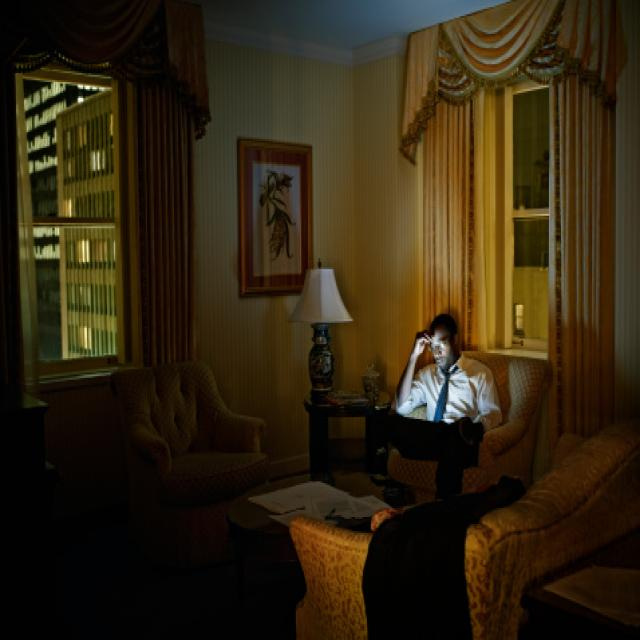People: (387, 294, 492, 513)
Table: (225, 464, 399, 624), (284, 378, 398, 486)
chair: (288, 406, 640, 640), (113, 353, 275, 578), (395, 336, 554, 508)
